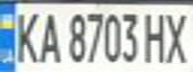0: (103, 8, 124, 64)
3: (121, 9, 142, 64)
7: (84, 8, 106, 63)
8: (63, 8, 87, 64)
A: (33, 7, 63, 64)
H: (142, 8, 172, 64)
K: (9, 7, 42, 64)
X: (160, 8, 193, 64)
